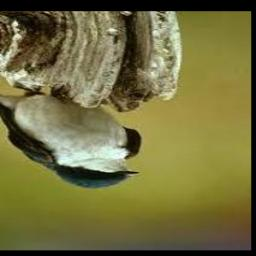Swallow: (0, 88, 141, 189)
